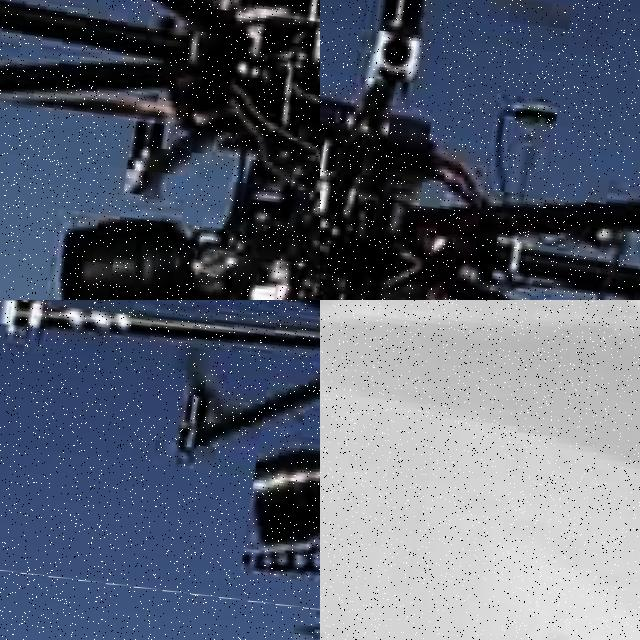drone: (320, 300, 640, 640), (0, 300, 320, 632), (0, 0, 320, 300), (320, 0, 640, 300)
